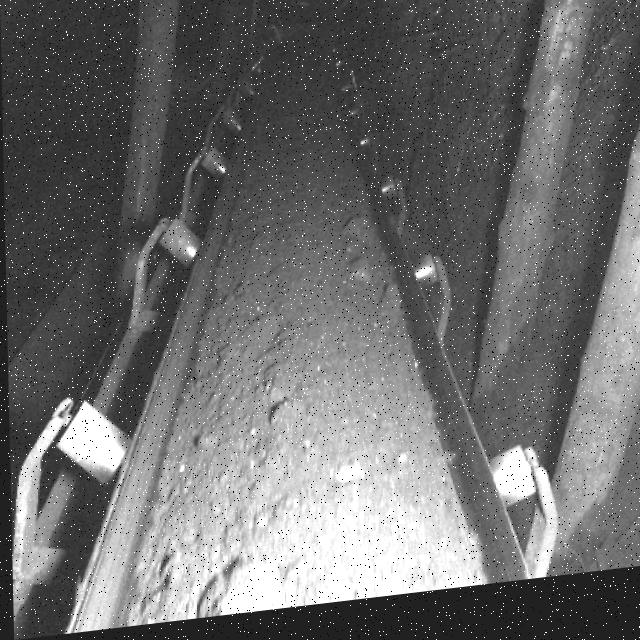large_sized_coal: (197, 564, 282, 623)
